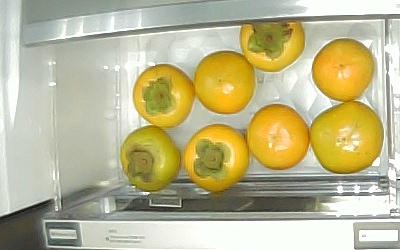persimmon: (310, 100, 383, 173), (183, 124, 248, 193), (132, 63, 195, 128), (119, 124, 180, 191), (311, 38, 374, 102), (247, 103, 308, 169), (194, 51, 255, 115), (239, 21, 305, 72)
